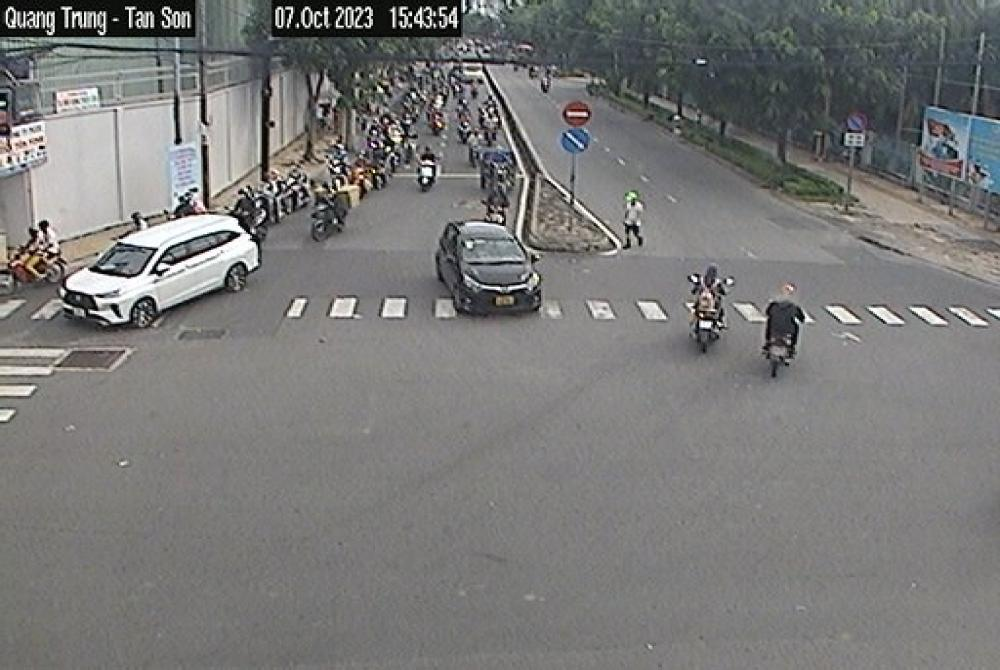car: (56, 214, 265, 329), (434, 217, 552, 316)
